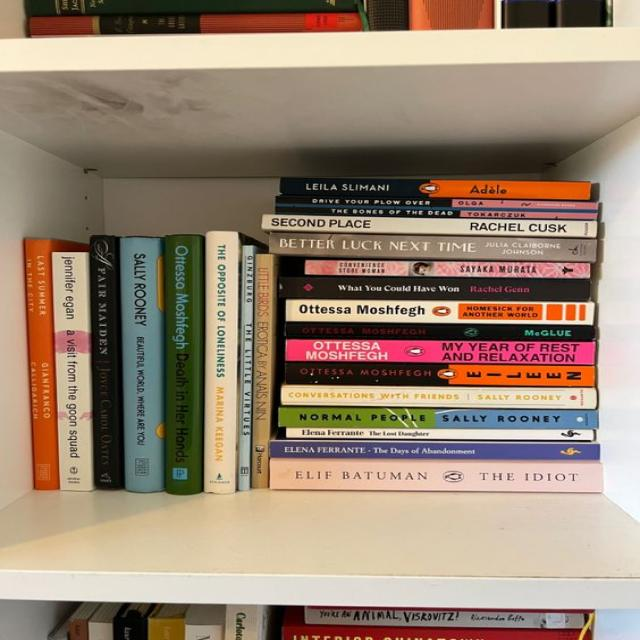book: (119, 236, 162, 492), (268, 462, 603, 492), (164, 234, 202, 495), (203, 232, 240, 493), (51, 251, 91, 490), (24, 236, 59, 491), (270, 234, 597, 261), (90, 234, 122, 491), (275, 196, 599, 221), (262, 214, 597, 238), (280, 385, 598, 410), (284, 362, 596, 387), (286, 299, 596, 323), (286, 340, 595, 364), (281, 178, 590, 201), (278, 408, 598, 430), (278, 278, 591, 300), (270, 442, 600, 460), (250, 254, 274, 489), (306, 259, 591, 278), (285, 324, 595, 340), (238, 244, 256, 490), (287, 428, 594, 441)
